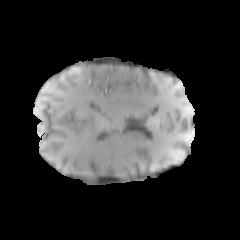glioma: (82, 62, 152, 97)
